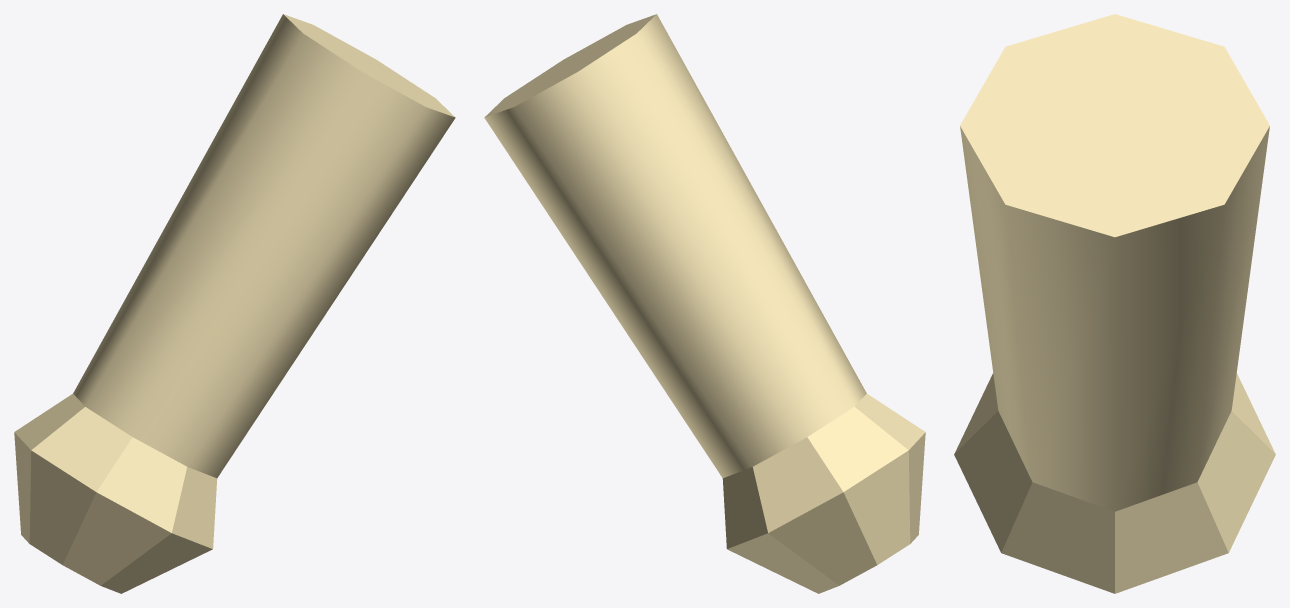
File: Player_LeftHand.obj
The picture shows the model from 3 angles, left to right: view 1: azimuth 30°, elevation 25°; view 2: azimuth 150°, elevation 25°; view 3: azimuth 270°, elevation 25°; orthographic projection. The views are drawn at different scales.
Visible parts, largest first — view 1: LeftHand; view 2: LeftHand; view 3: LeftHand.
Part boxes in pixels (x1,y1,x2,y2): LeftHand: (14,14,455,593); LeftHand: (484,14,925,593); LeftHand: (954,14,1275,593).
Size of the model in its own units: 18.27 by 21.71 by 9.06.
